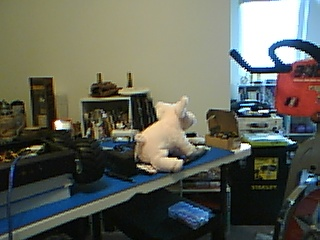piggy: (132, 95, 204, 174)
